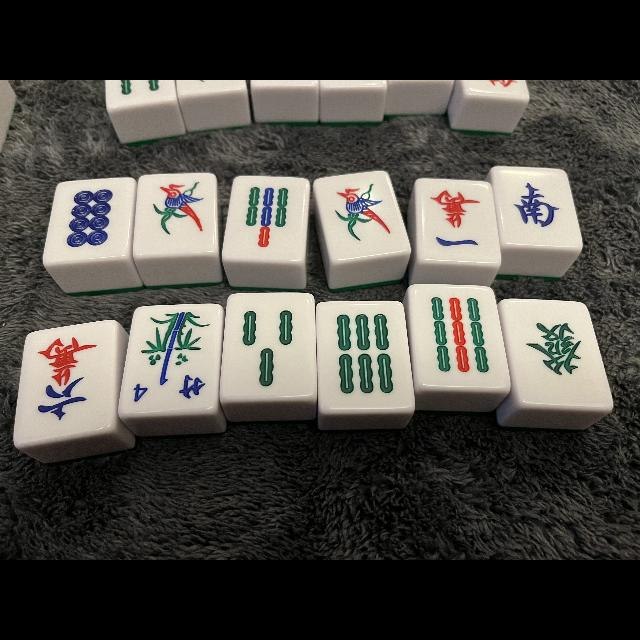b1: (323, 174, 395, 256), (138, 174, 214, 250)
b3: (226, 294, 312, 396)
b6: (320, 300, 410, 410)
b7: (230, 178, 302, 258)
b9: (412, 284, 506, 388)
c1: (419, 180, 499, 262)
c6: (24, 326, 110, 432)
d8: (52, 179, 126, 257)
dg: (508, 300, 610, 406)
f4: (122, 372, 214, 408)
ws: (498, 168, 576, 246)
